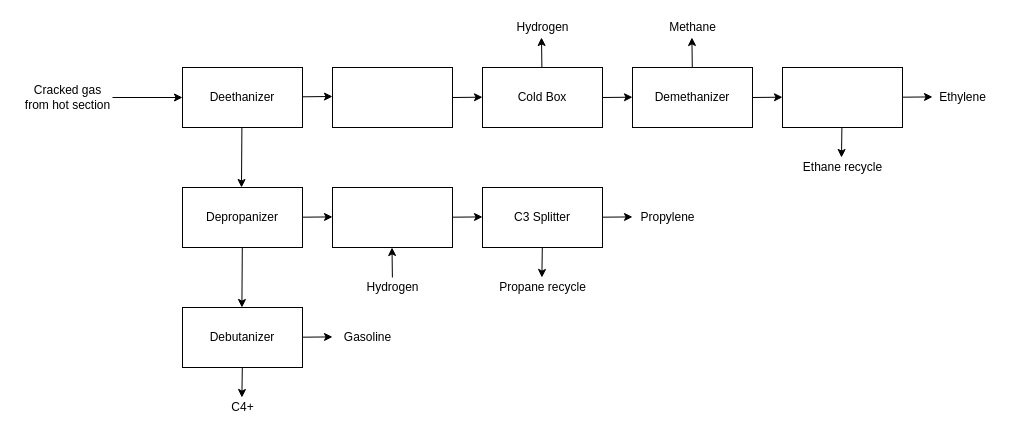
Some shapes in this 1009 by 434 pixel diagram are drawn without their labels. Here are the shapes that lost their labels. From the top down, the centre of each, then its label:
At (392,97): "Acetylene Hydrogenator".
At (842,97): "C2 Splitter".
At (392,217): "MAPD Hydrogenator".
